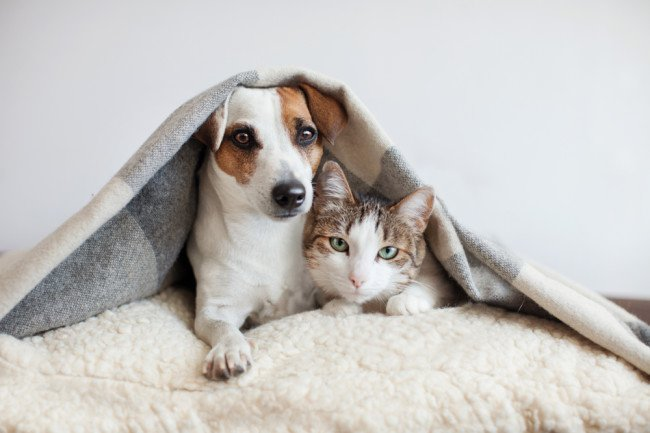cat: (301, 149, 481, 331)
dog: (163, 66, 345, 369)
